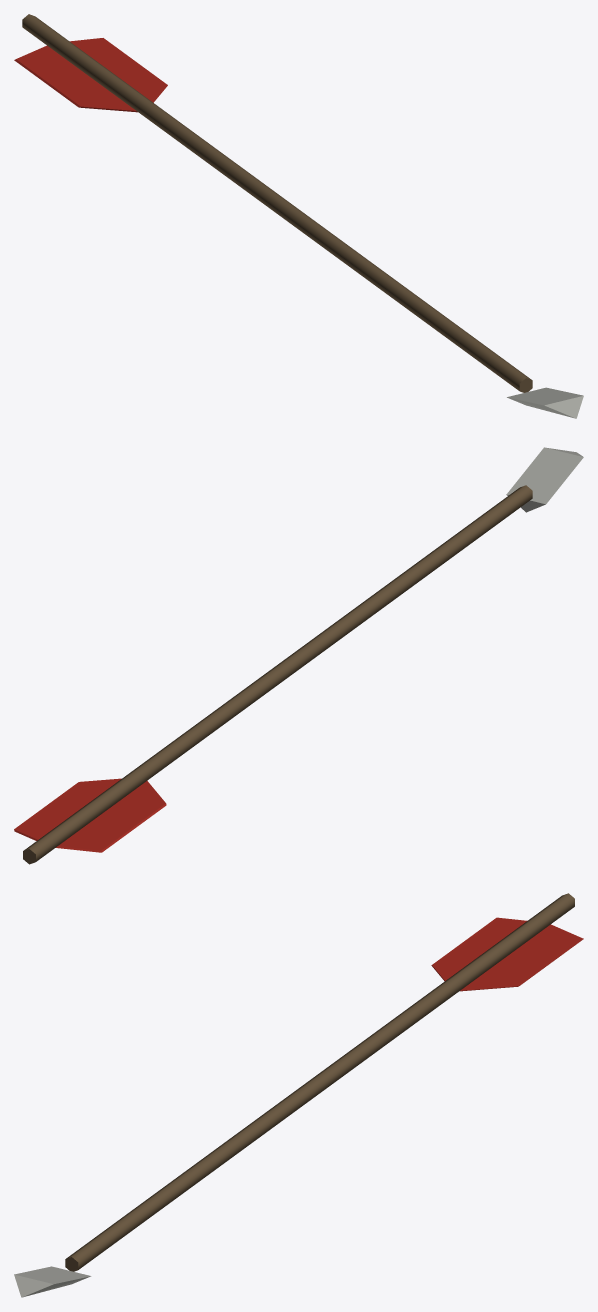
The picture shows the model from 3 angles, top to bottom: view 1: azimuth 30°, elevation 25°; view 2: azimuth 150°, elevation 25°; view 3: azimuth 330°, elevation 25°; orthographic projection.
Parts seen in each view (by area): view 1: weapon-arrow-painted; view 2: weapon-arrow-painted; view 3: weapon-arrow-painted.
Part boxes in pixels (left/top/right/bottom): weapon-arrow-painted: left=14, top=14, right=583, bottom=418; weapon-arrow-painted: left=14, top=447, right=583, bottom=864; weapon-arrow-painted: left=14, top=893, right=583, bottom=1297.
Size of the model in its own units: 0.3737 by 0.1316 by 4.
